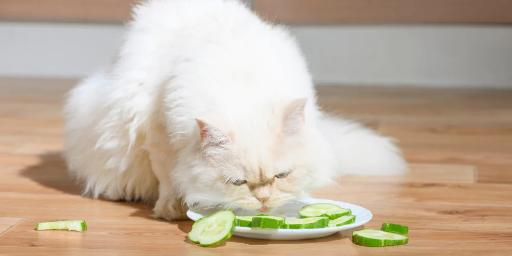cat_eating: (63, 0, 407, 240)
